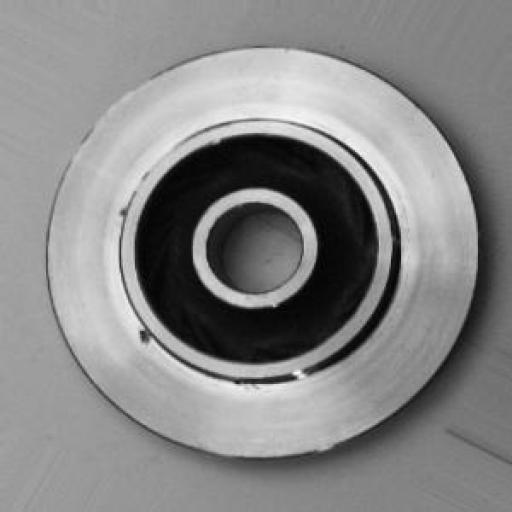defect: (116, 185, 159, 384)
